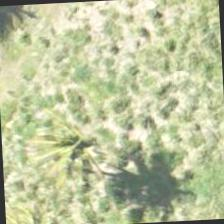Kelapa_Sawit: (26, 100, 120, 194)
